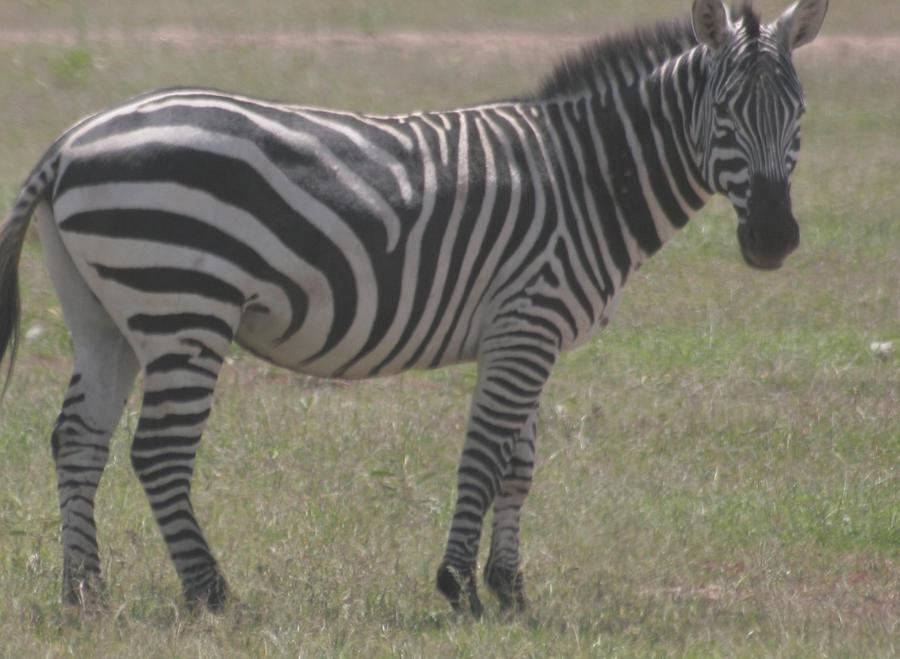zebra_plains: (102, 70, 632, 400)
